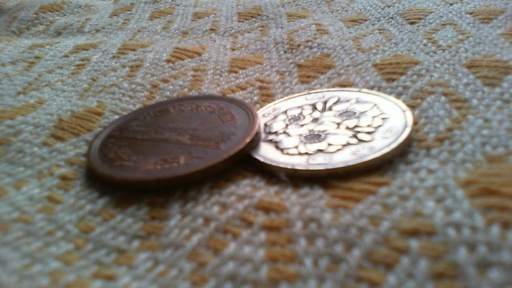100yen: (239, 87, 413, 179)
10yen: (87, 95, 260, 188)
